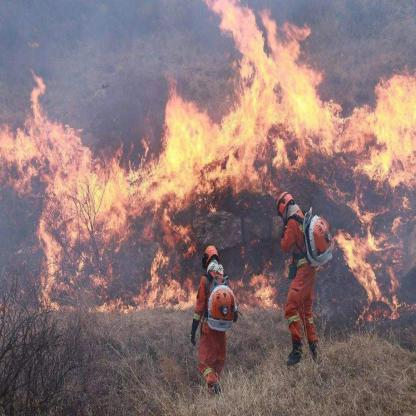fire: (6, 5, 416, 329)
